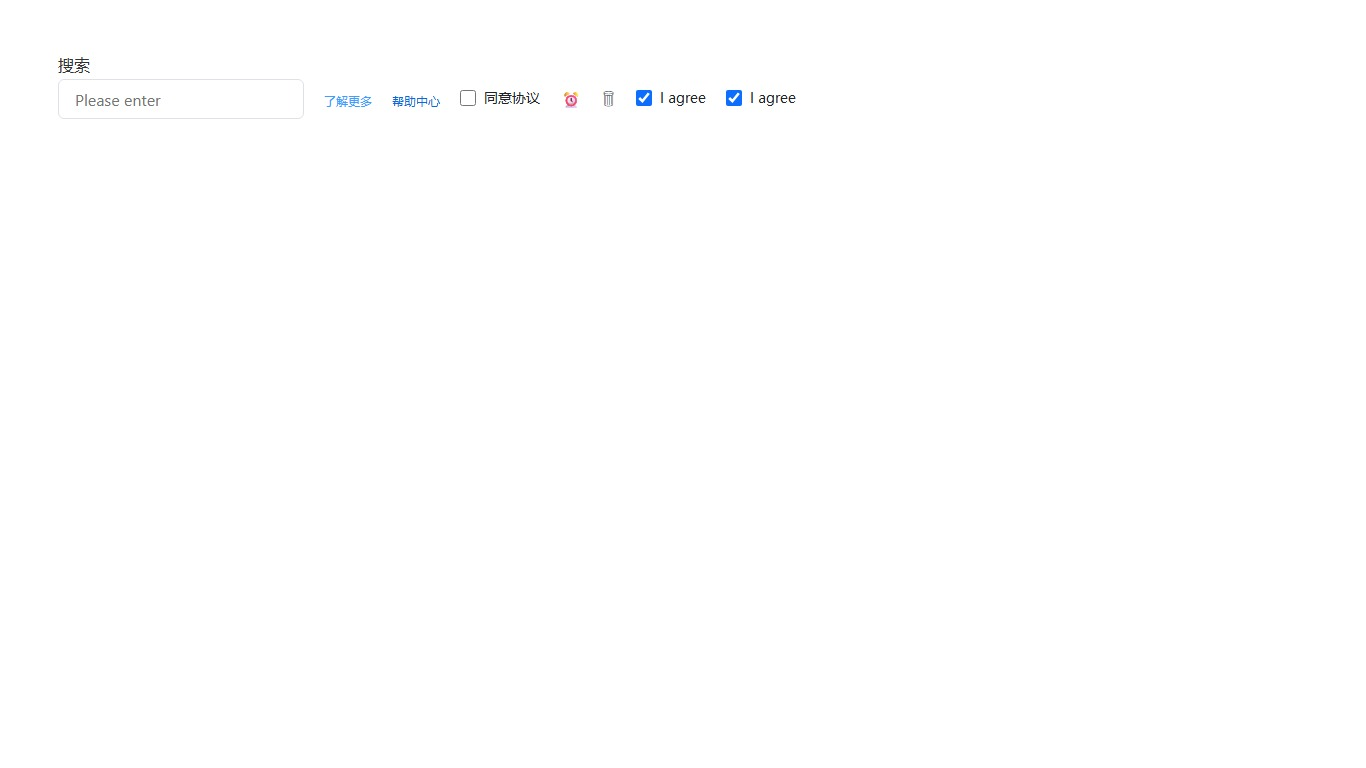checkbox: (460, 90, 476, 105), (636, 90, 652, 105), (726, 90, 742, 105)
icon: (484, 88, 540, 107), (660, 88, 706, 107), (750, 88, 796, 107), (560, 91, 582, 107), (602, 87, 616, 108)
input: (58, 79, 304, 119)
link: (324, 92, 372, 108), (392, 92, 440, 108)
radio: (460, 88, 540, 107), (636, 88, 706, 107), (726, 88, 796, 107)
